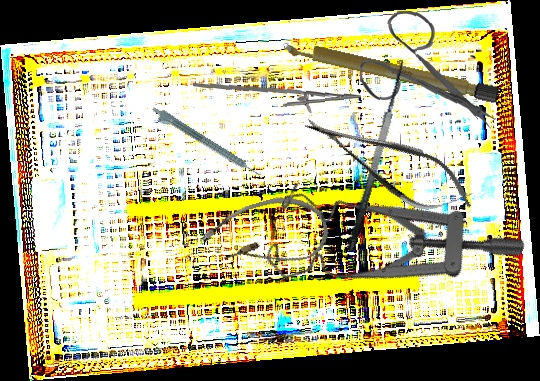Cannula: (197, 186, 334, 285)
Handpiece: (147, 104, 264, 184)
Iris Scissors: (356, 6, 498, 135)
Micro Scissor: (294, 95, 484, 231)
Needle Holder: (193, 73, 362, 121)
Scalpel Handle: (278, 36, 502, 104)
Spatula Surgical: (330, 56, 413, 252)
Speculum: (252, 135, 529, 368)
